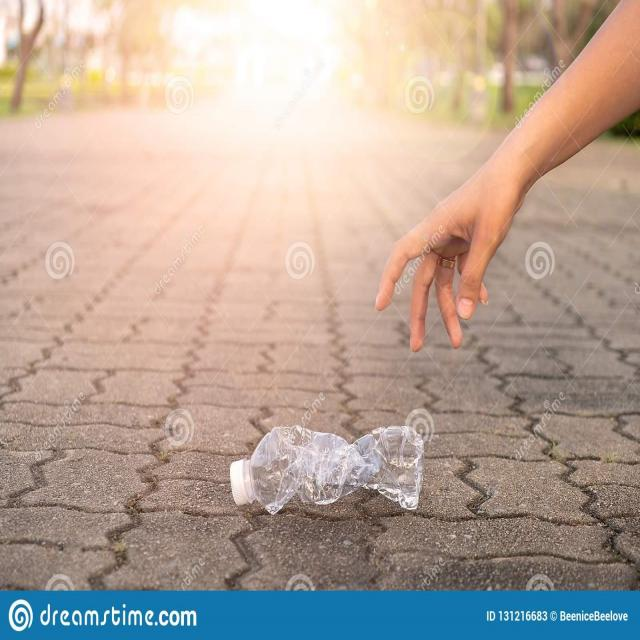bottle: (216, 407, 438, 525)
